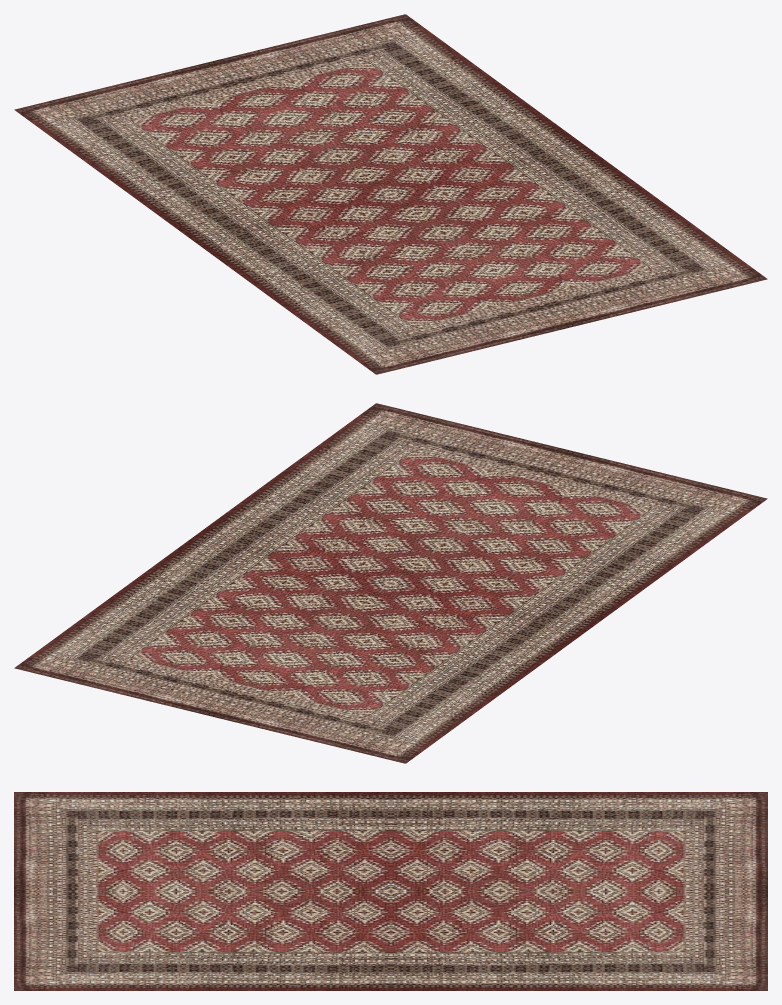
Rendered from frn_all_rug_rectangle_lg_s1.fbx.
3 views of the same model, one above another, from view 1: azimuth 30°, elevation 25°; view 2: azimuth 150°, elevation 25°; view 3: azimuth 270°, elevation 25° (orthographic). The views are drawn at different scales.
Parts seen in each view (by area): view 1: mesh_node; view 2: mesh_node; view 3: mesh_node.
Boxes of the visible parts, <box> form: mesh_node: <box>14,14,767,374</box>; mesh_node: <box>14,403,767,763</box>; mesh_node: <box>14,792,767,990</box>.
Size of the model in its own units: 1.25 by 0 by 2.
